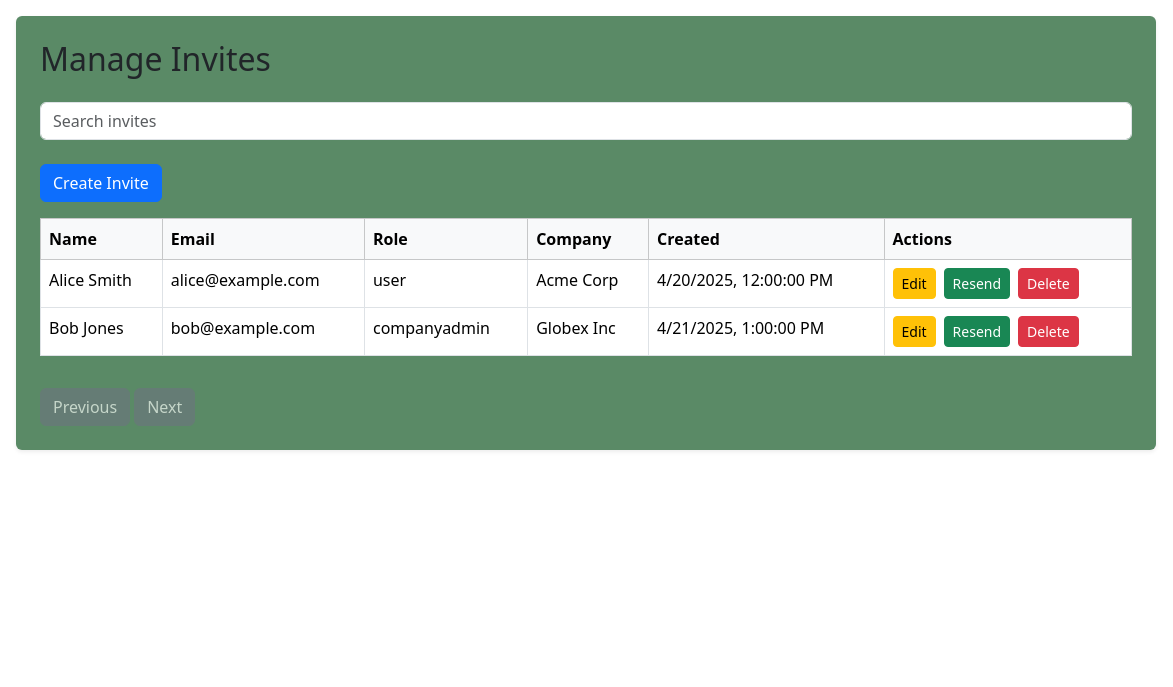
Scenario: InviteUser Page › opens the form pre-filled for editing
Check: the text "Alice Smith" is shown, box [40, 260, 162, 308]
# click the "Edit" button next to the first invite
Click the button "Edit" in the row of "Smith". click: coordinates (914, 284)
box: [892, 268, 936, 299]
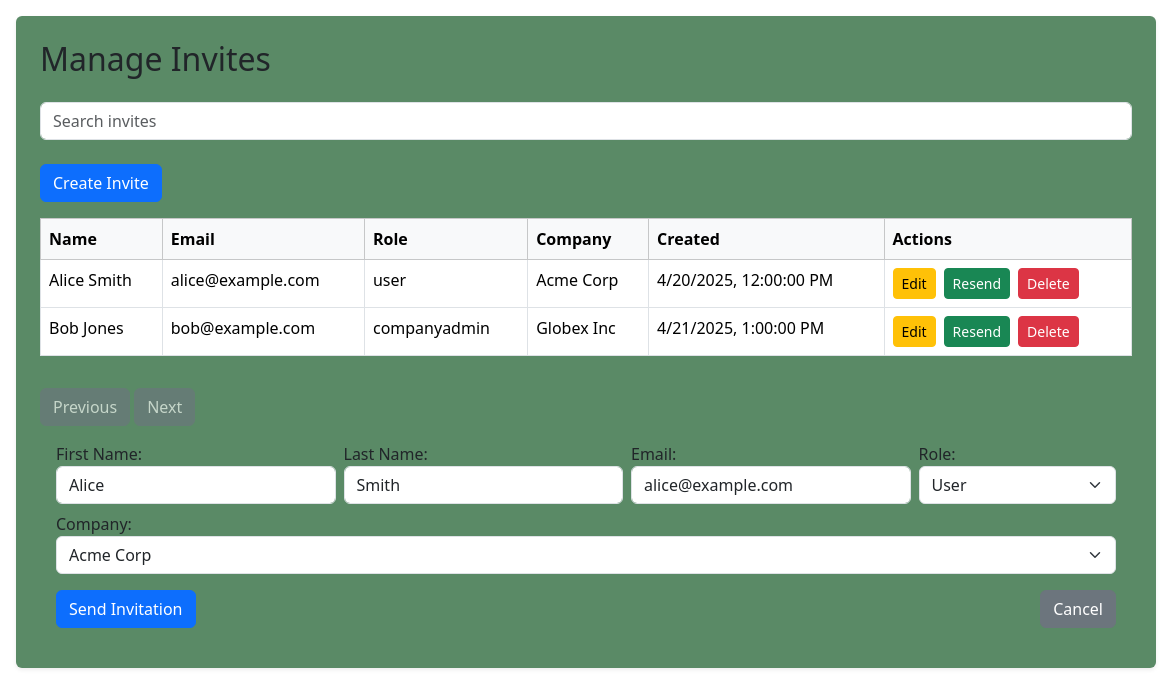
Check: the field labelled "First Name:" holds "Alice", box [56, 466, 336, 504]
Check: the field labelled "Last Name:" holds "Smith", box [344, 466, 623, 504]
Check: the field labelled "Email:" holds "alice@example.com", box [631, 466, 910, 504]
